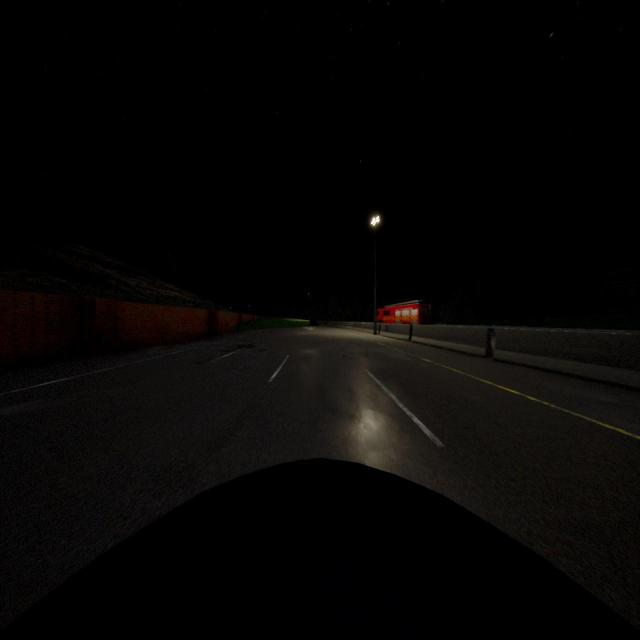Vehicle: (0, 456, 640, 640), (376, 300, 432, 326), (307, 316, 319, 328)
